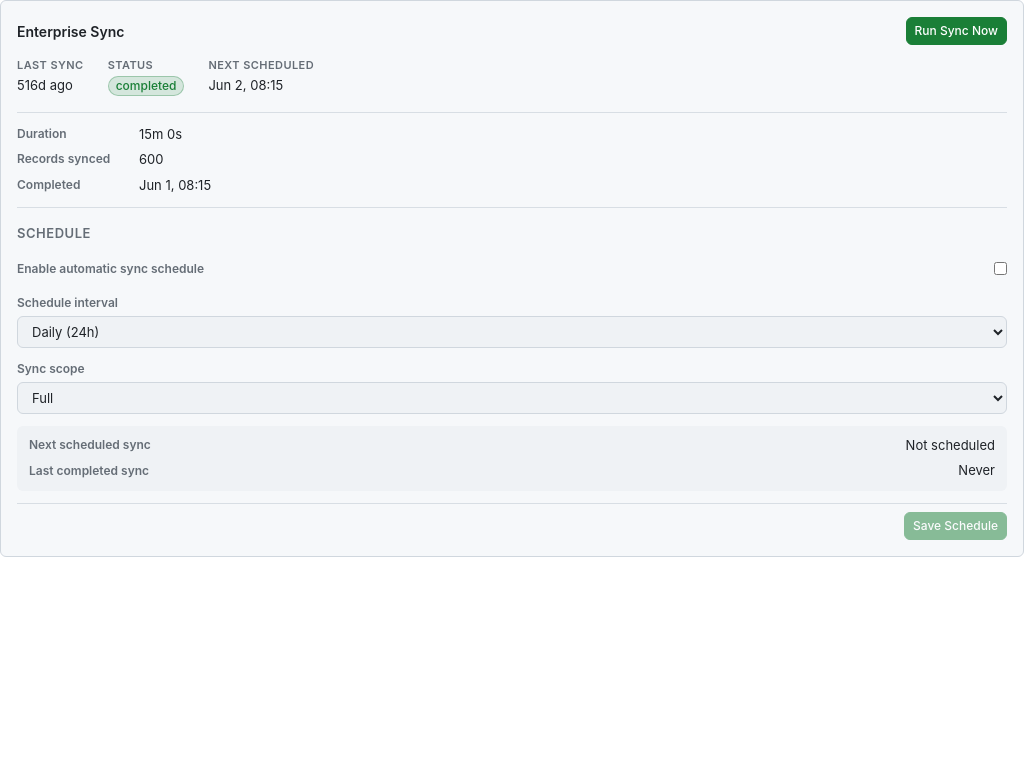
Scenario: ScheduleSection › save button enables after toggling enabled checkbox
The image size is (1024, 768).
Click the checkbox labelled "Enable automatic sync schedule". click: (1000, 268)
box: [994,262,1007,275]
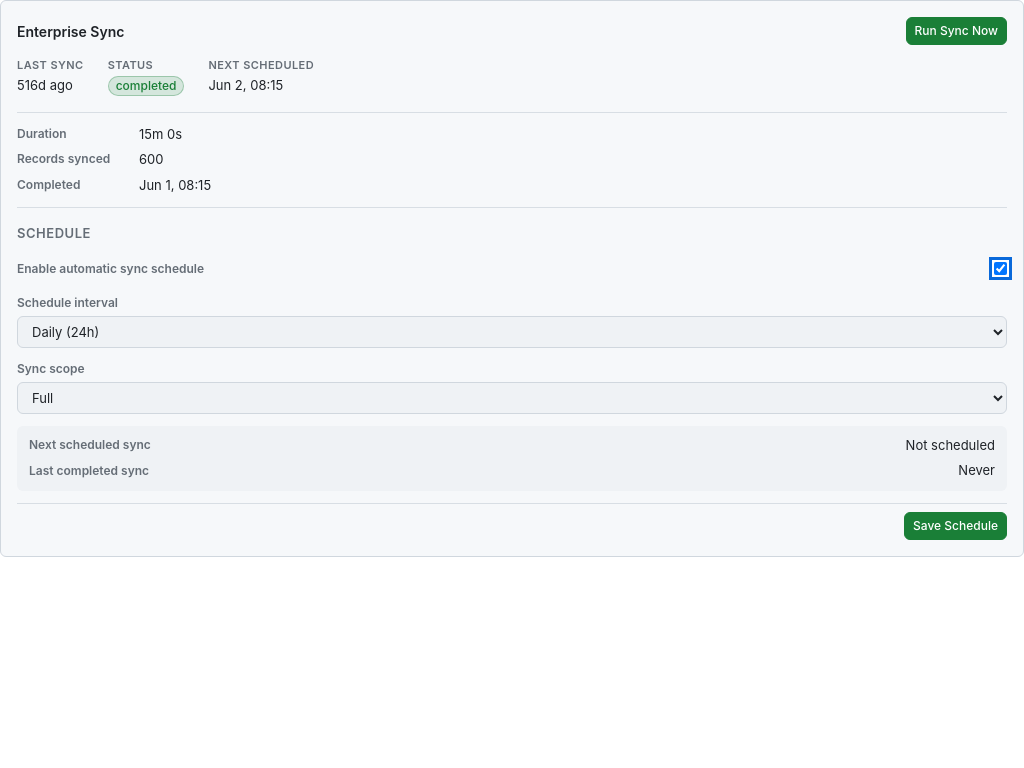
Check: the button "Save Schedule" is enabled, box [904,512,1007,540]
